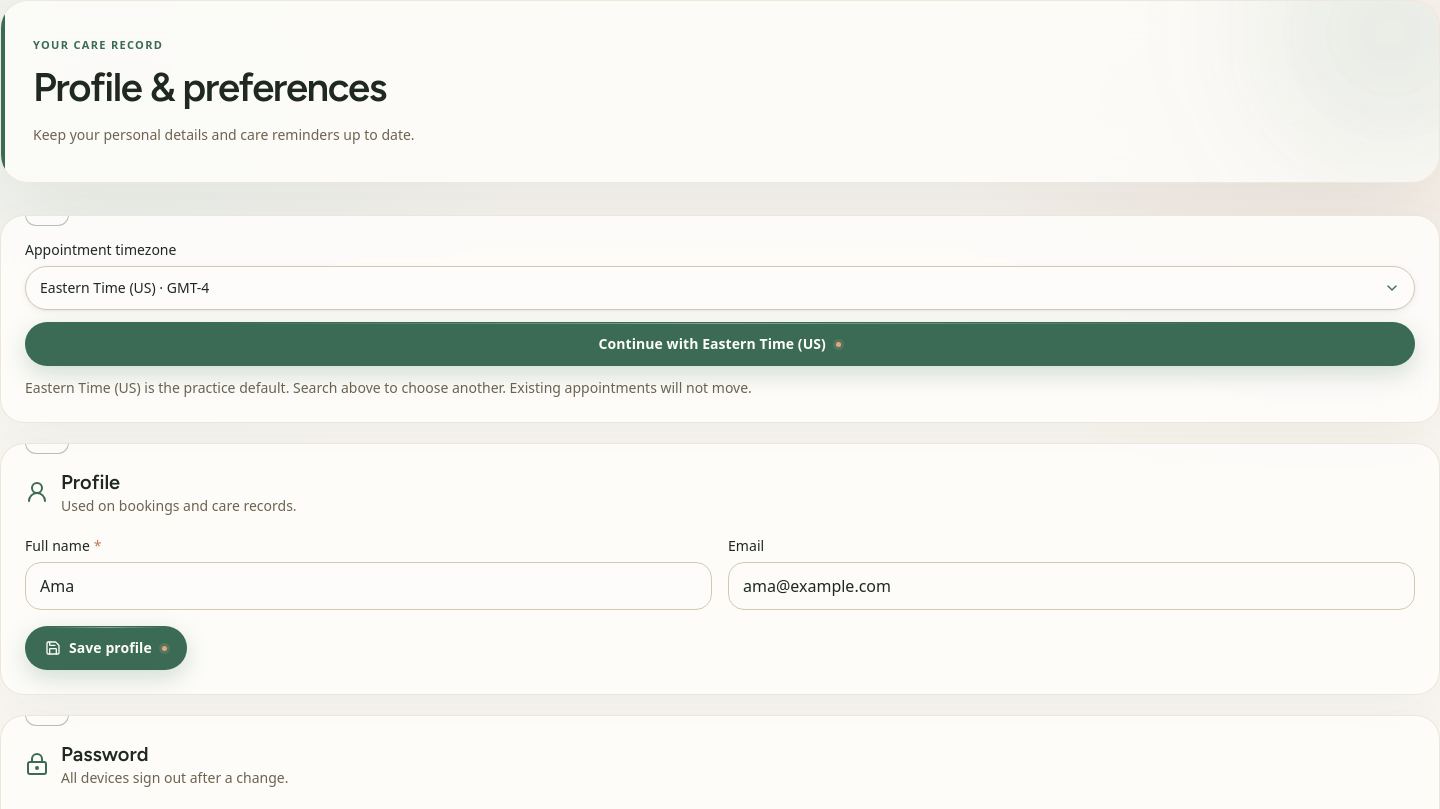
Test: PortalSettingsPage › shows safe profile and password failures
Step 1. Click the button "Save profile" → (106, 648), box 25,626 -> 187,670
(page scrolled)
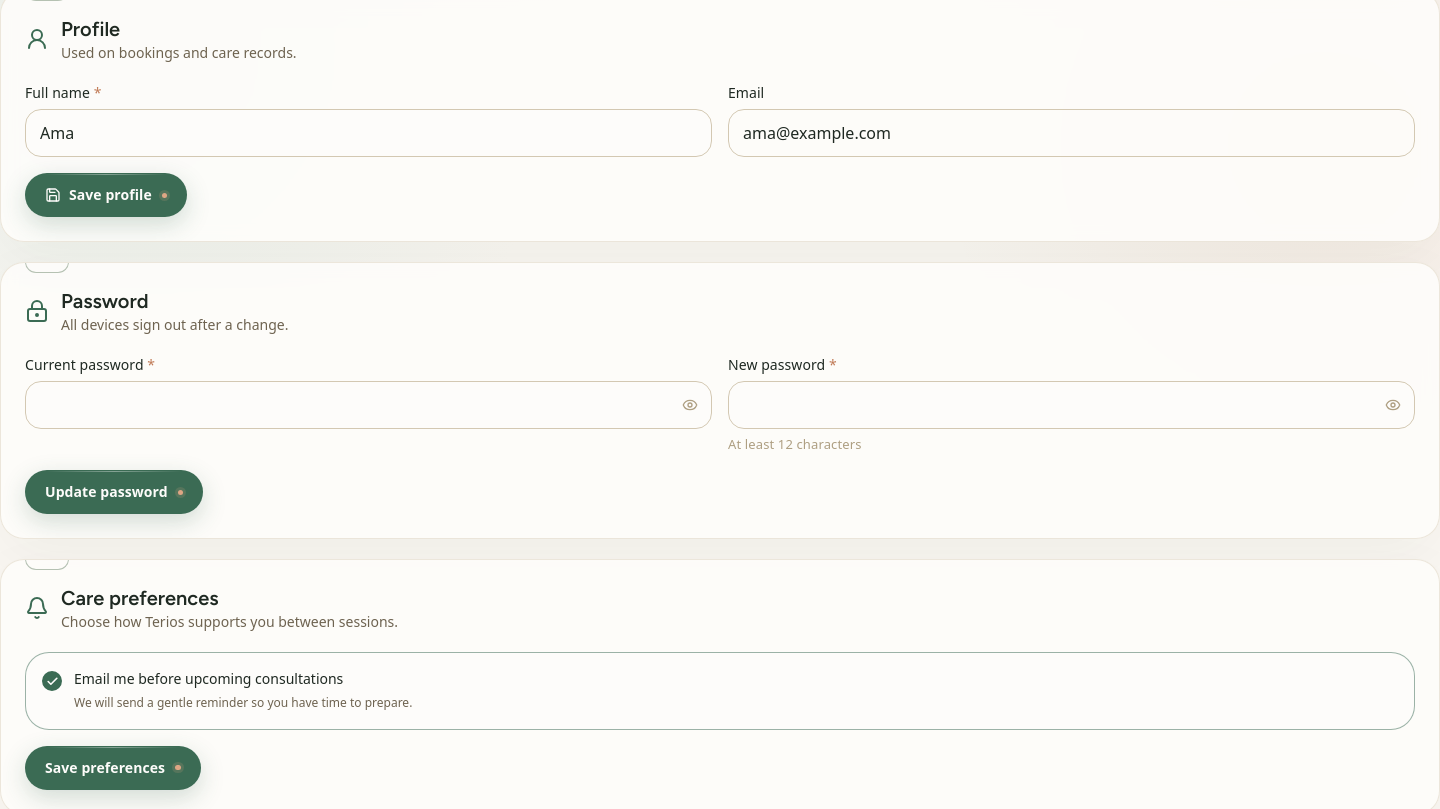
Step 2. Type "old-password-123" into the password field labelled "Current password *" → (368, 405), box 25,381 -> 712,429
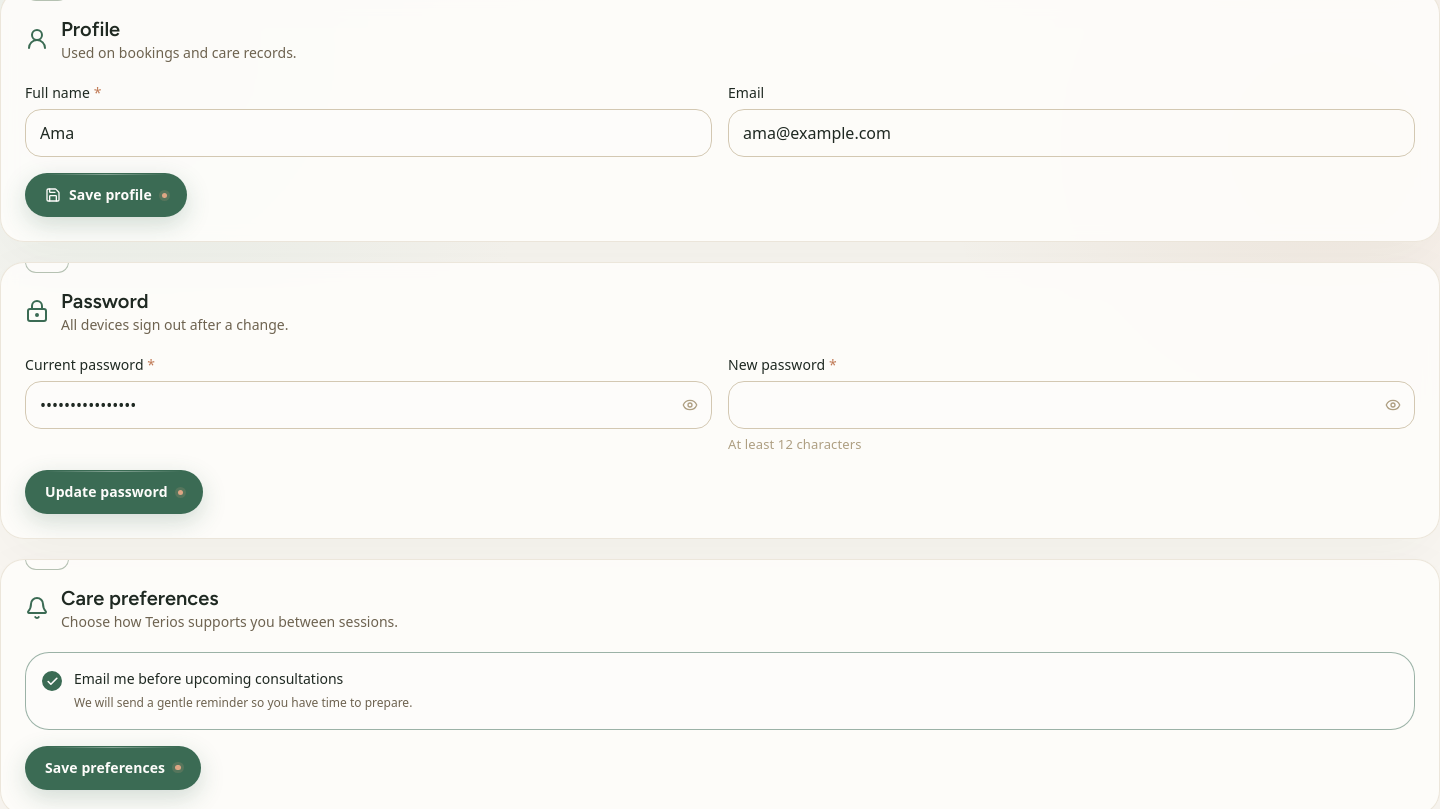
Step 3. Type "new-password-123" into the password field labelled "New password *" → (1072, 405), box 728,381 -> 1415,429
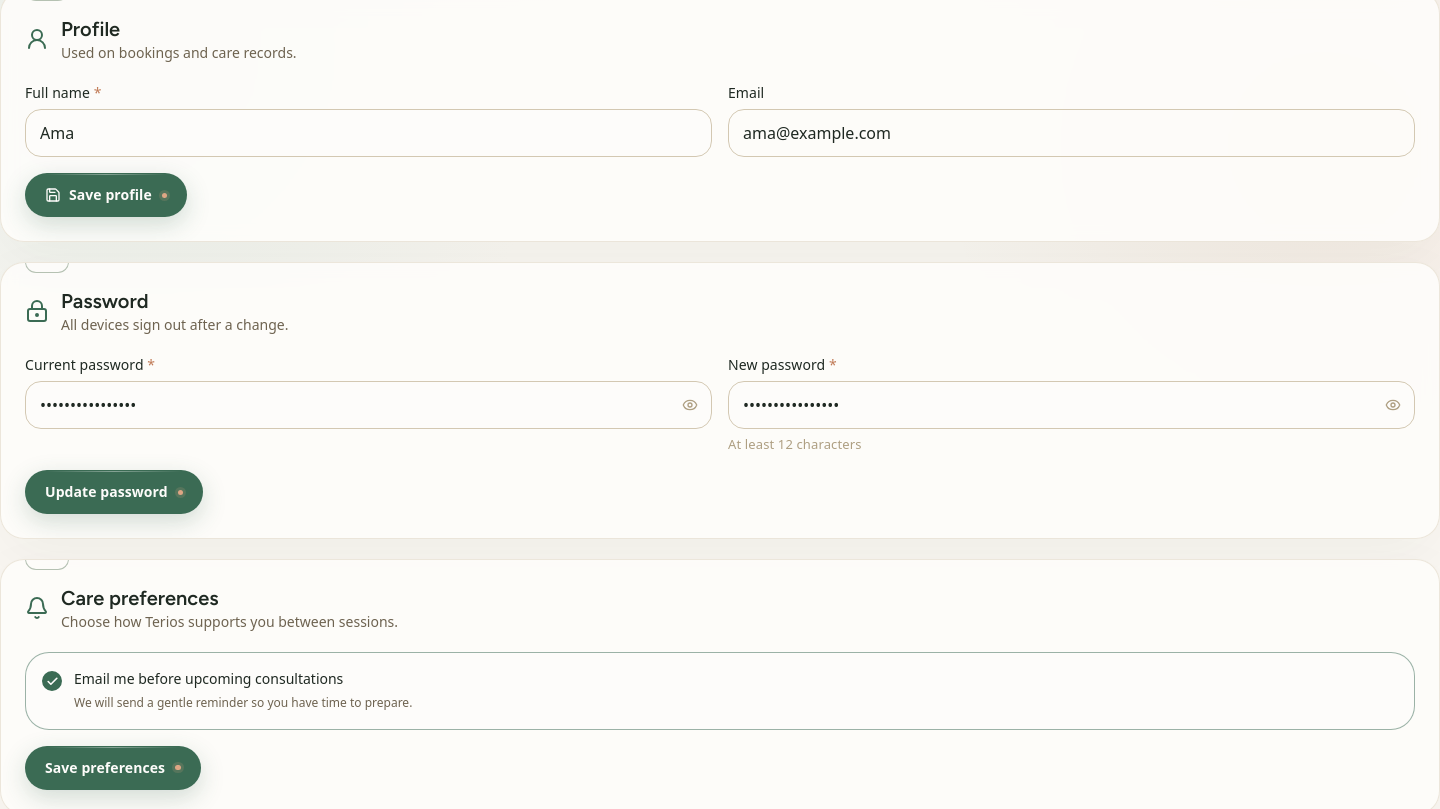
Step 4. Click the button "Update password" → (114, 492), box 25,470 -> 203,514
(page scrolled)
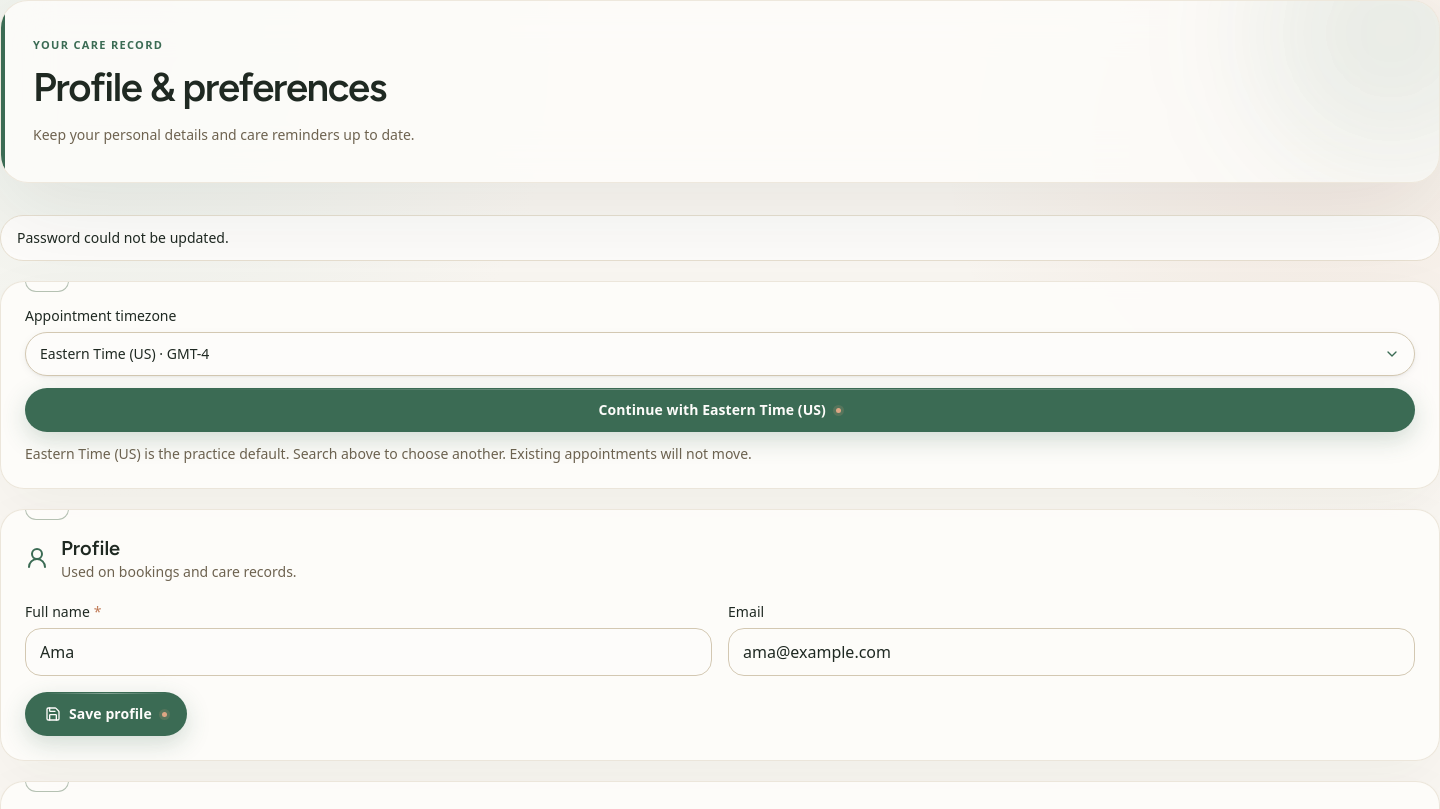
Expected: the text "Password could not be updated." is shown, 0,215 -> 1439,261
